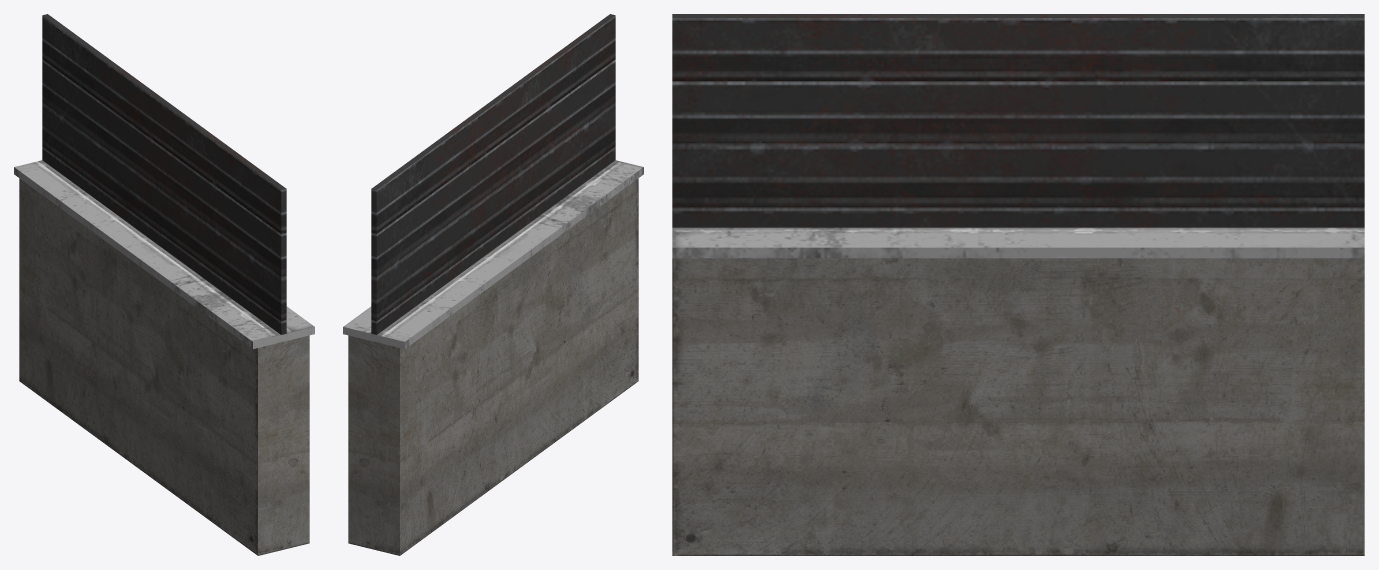
The model's file is CP_Parapet_C_2m.fbx.
3 views of the same model, side by side, from view 1: azimuth 30°, elevation 25°; view 2: azimuth 150°, elevation 25°; view 3: azimuth 270°, elevation 25° (orthographic). The views are drawn at different scales.
Parts seen in each view (by area): view 1: CP_Parapet_C_2m; view 2: CP_Parapet_C_2m; view 3: CP_Parapet_C_2m.
Part boxes in pixels (x1,y1,x2,y2): CP_Parapet_C_2m: [14, 14, 314, 555]; CP_Parapet_C_2m: [343, 14, 643, 555]; CP_Parapet_C_2m: [672, 14, 1364, 555].
Bounding box in the file's own units: 29.88 × 166 × 200.
